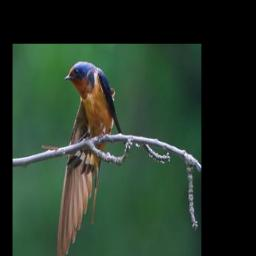Swallow: (55, 58, 127, 256)
